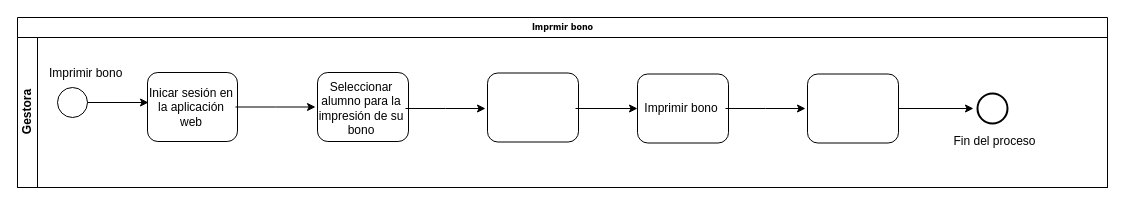
Image size: 1125x205. Some labels were removed from this diagram. The box of each missing label's shape, as (x1, y1, x2, y2) in pixels:
Elegir formato y tamaño del bono: (486, 72, 578, 142)
Entregar bono al alumno: (806, 73, 898, 143)
